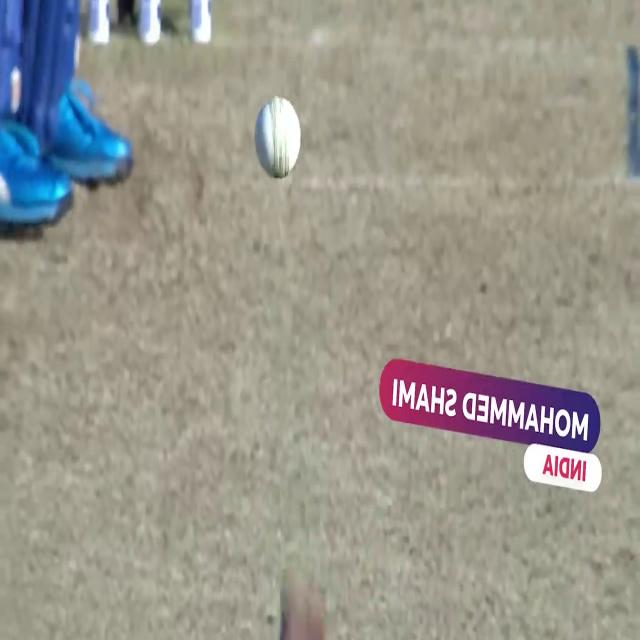ball: (254, 97, 302, 181)
